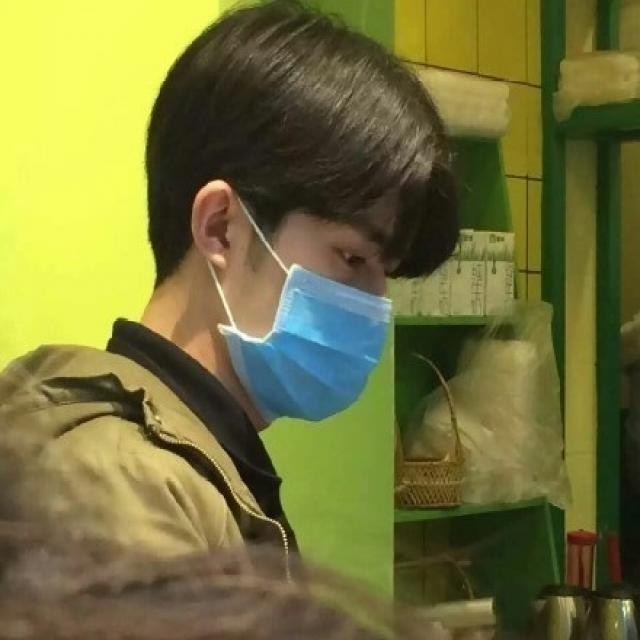mask: (238, 169, 399, 422)
